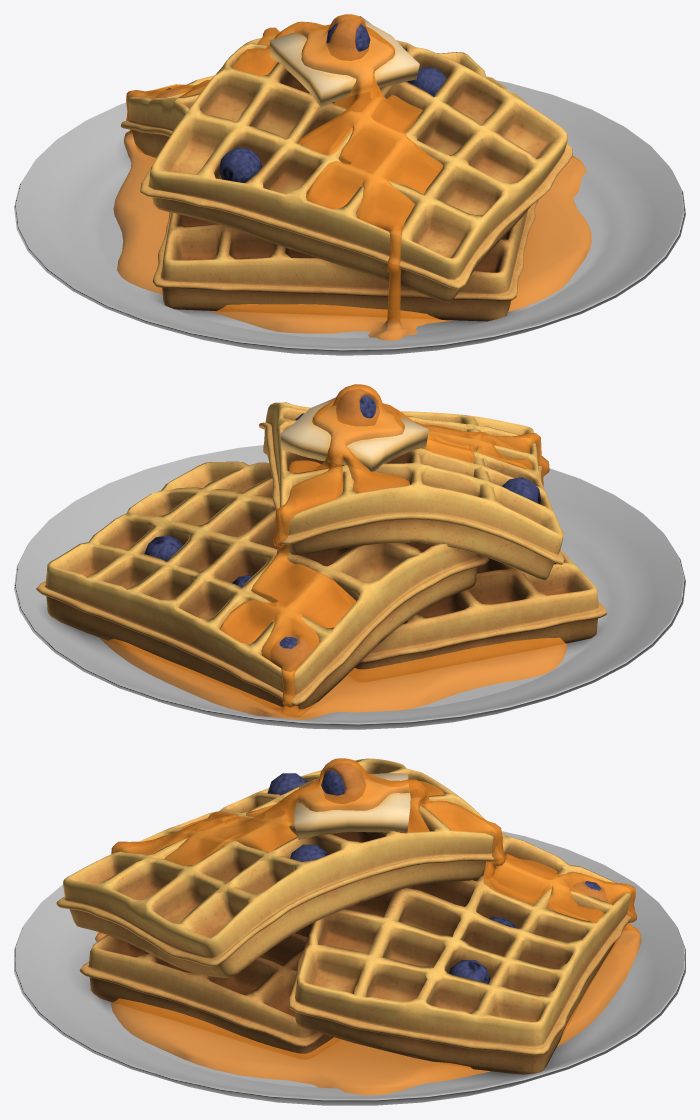
The model's file is Waffles.fbx.
The picture shows the model from 3 angles, top to bottom: view 1: azimuth 30°, elevation 25°; view 2: azimuth 150°, elevation 25°; view 3: azimuth 270°, elevation 25°; orthographic projection.
Parts seen in each view (by area): view 1: Plate; view 2: Plate; view 3: Plate.
Boxes of the visible parts, left/top/right/bottom form: Plate: left=14, top=14, right=685, bottom=355; Plate: left=14, top=384, right=685, bottom=729; Plate: left=14, top=758, right=685, bottom=1105.
Bounding box in the file's own units: 2.48 × 0.9204 × 2.48.
